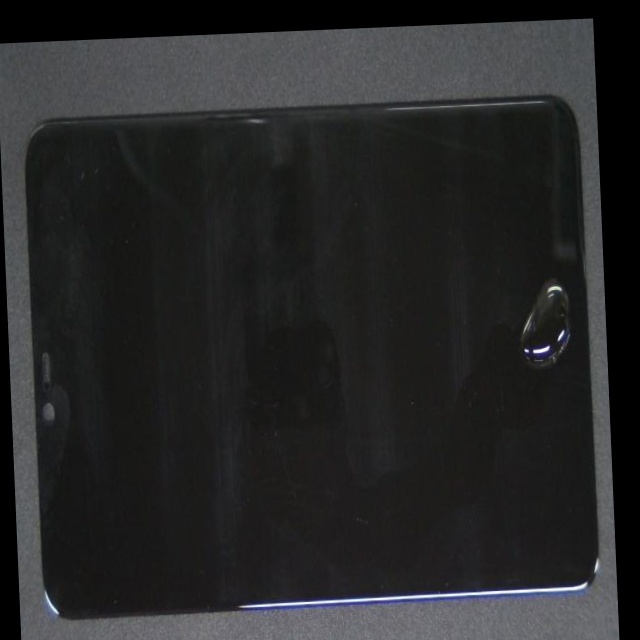oil: (300, 114, 610, 436)
